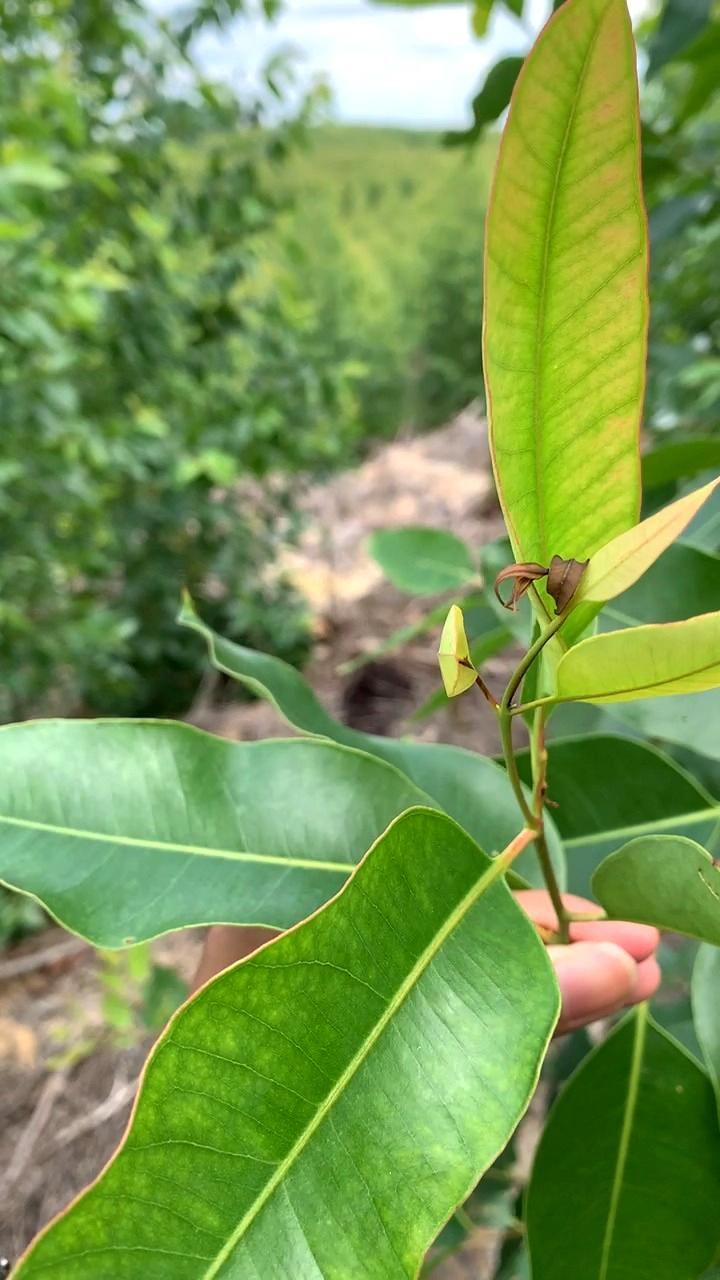Helopeltis-Withered Sprout: (483, 536, 600, 649)
